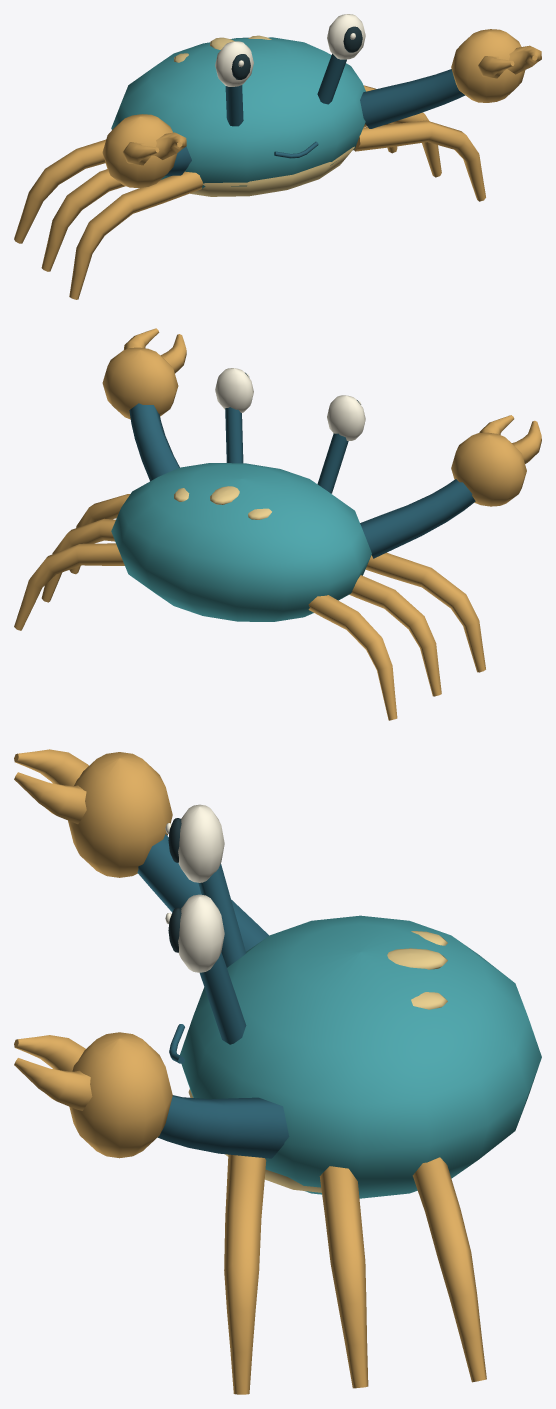
The model's file is world02-tide-crab-v1.glb.
The picture shows the model from 3 angles, top to bottom: view 1: azimuth 30°, elevation 25°; view 2: azimuth 150°, elevation 25°; view 3: azimuth 270°, elevation 25°; orthographic projection. The views are drawn at different scales.
Parts seen in each view (by area): view 1: crab-motion__MAT_teal, right-claw__MAT_ochre, left-claw__MAT_ochre, left-leg-2__MAT_ochre, right-claw__MAT_teal_dark, right-leg-2__MAT_ochre, left-leg-0__MAT_ochre, crab-motion__MAT_linen, left-leg-1__MAT_ochre, crab-motion__MAT_white, crab-motion__MAT_teal_dark, crab-motion__MAT_hair (+2 smaller); view 2: crab-motion__MAT_teal, left-claw__MAT_ochre, right-claw__MAT_ochre, left-claw__MAT_teal_dark, left-leg-2__MAT_ochre, left-leg-0__MAT_ochre, left-leg-1__MAT_ochre, crab-motion__MAT_white, right-leg-0__MAT_ochre, right-claw__MAT_teal_dark, crab-motion__MAT_teal_dark, right-leg-1__MAT_ochre (+2 smaller); view 3: crab-motion__MAT_teal, right-claw__MAT_ochre, left-claw__MAT_ochre, right-leg-2__MAT_ochre, right-leg-1__MAT_ochre, right-leg-0__MAT_ochre, right-claw__MAT_teal_dark, crab-motion__MAT_white, crab-motion__MAT_teal_dark, left-claw__MAT_teal_dark, crab-motion__MAT_linen, crab-motion__MAT_hair.
Boxes of the visible parts, x1=… form: crab-motion__MAT_teal: x1=111, y1=37, x2=365, y2=188; right-claw__MAT_ochre: x1=451, y1=29, x2=541, y2=102; left-claw__MAT_ochre: x1=102, y1=114, x2=186, y2=187; left-leg-2__MAT_ochre: x1=69, y1=171, x2=202, y2=299; right-claw__MAT_teal_dark: x1=360, y1=69, x2=465, y2=128; right-leg-2__MAT_ochre: x1=354, y1=120, x2=485, y2=201; left-leg-0__MAT_ochre: x1=14, y1=139, x2=106, y2=243; crab-motion__MAT_linen: x1=174, y1=35, x2=354, y2=196; left-leg-1__MAT_ochre: x1=41, y1=169, x2=125, y2=271; crab-motion__MAT_white: x1=215, y1=14, x2=365, y2=86; crab-motion__MAT_teal_dark: x1=225, y1=53, x2=346, y2=158; crab-motion__MAT_hair: x1=231, y1=26, x2=362, y2=79; crab-motion__MAT_teal: x1=111, y1=463, x2=371, y2=621; left-claw__MAT_ochre: x1=451, y1=415, x2=541, y2=506; right-claw__MAT_ochre: x1=102, y1=328, x2=186, y2=419; left-claw__MAT_teal_dark: x1=360, y1=479, x2=475, y2=558; left-leg-2__MAT_ochre: x1=365, y1=552, x2=485, y2=672; left-leg-0__MAT_ochre: x1=308, y1=595, x2=397, y2=720; left-leg-1__MAT_ochre: x1=349, y1=575, x2=441, y2=696; crab-motion__MAT_white: x1=215, y1=368, x2=365, y2=440; right-leg-0__MAT_ochre: x1=14, y1=543, x2=124, y2=630; right-claw__MAT_teal_dark: x1=129, y1=403, x2=179, y2=481; crab-motion__MAT_teal_dark: x1=225, y1=407, x2=348, y2=493; right-leg-1__MAT_ochre: x1=41, y1=518, x2=115, y2=602; crab-motion__MAT_teal: x1=180, y1=915, x2=541, y2=1198; right-claw__MAT_ochre: x1=14, y1=1032, x2=172, y2=1158; left-claw__MAT_ochre: x1=14, y1=749, x2=172, y2=877; right-leg-2__MAT_ochre: x1=224, y1=1154, x2=266, y2=1394; right-leg-1__MAT_ochre: x1=319, y1=1166, x2=368, y2=1388; right-leg-0__MAT_ochre: x1=412, y1=1157, x2=486, y2=1382; right-claw__MAT_teal_dark: x1=158, y1=1095, x2=289, y2=1158; crab-motion__MAT_white: x1=165, y1=804, x2=224, y2=972; crab-motion__MAT_teal_dark: x1=169, y1=863, x2=246, y2=1063; left-claw__MAT_teal_dark: x1=137, y1=834, x2=269, y2=951; crab-motion__MAT_linen: x1=188, y1=931, x2=447, y2=1192; crab-motion__MAT_hair: x1=168, y1=818, x2=181, y2=952.
Bounding box in the file's own units: 1.36 × 0.72 × 0.9039.
